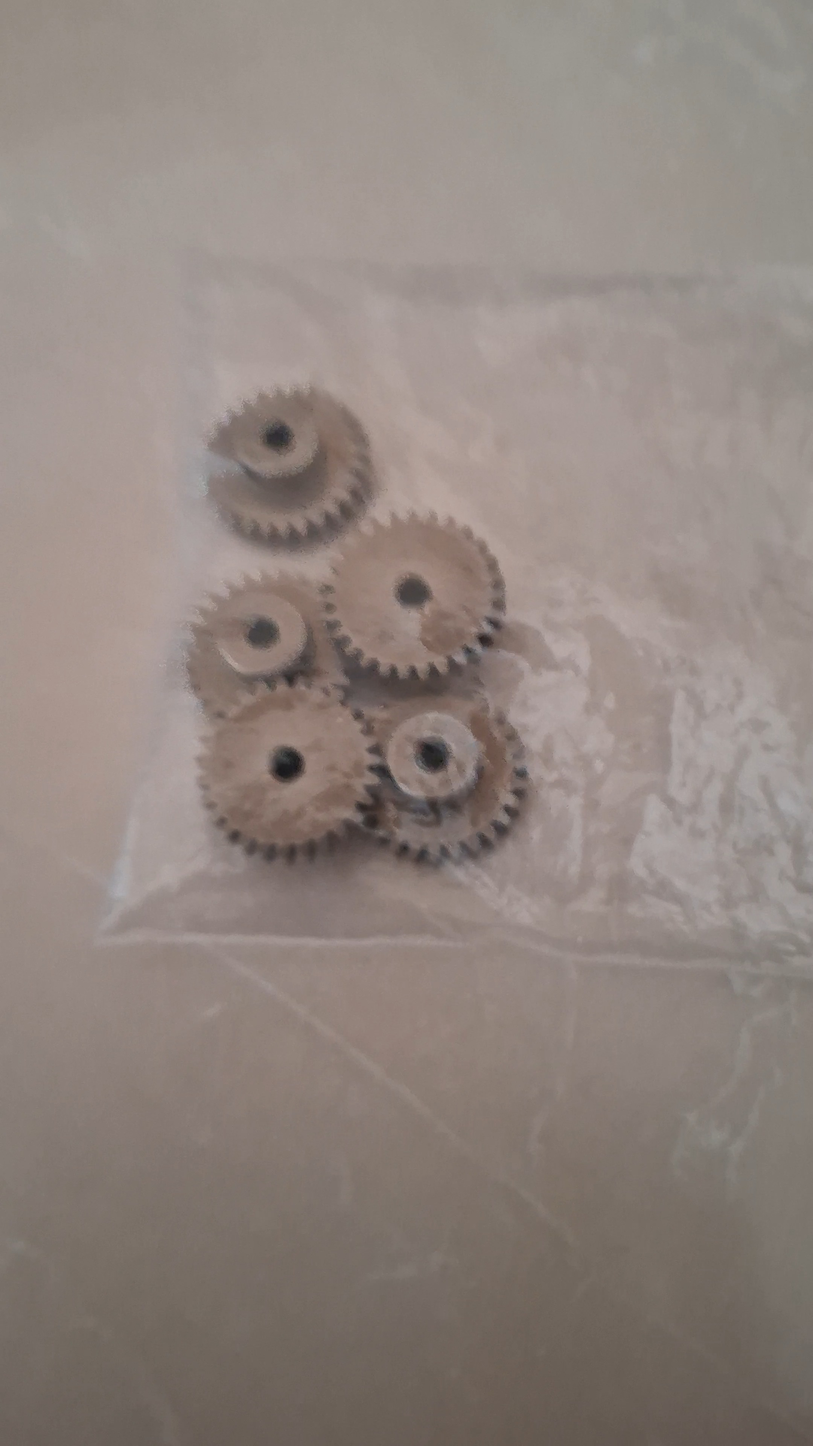spur gear: (199, 683, 379, 860), (323, 514, 504, 679), (366, 699, 527, 863), (209, 389, 372, 542), (186, 577, 345, 717)
